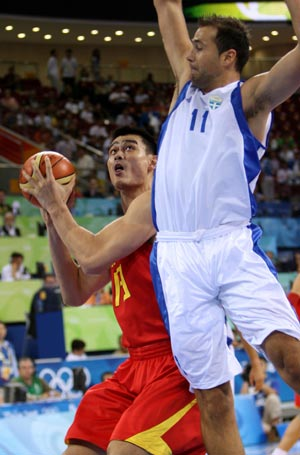basketball: (20, 152, 76, 205)
